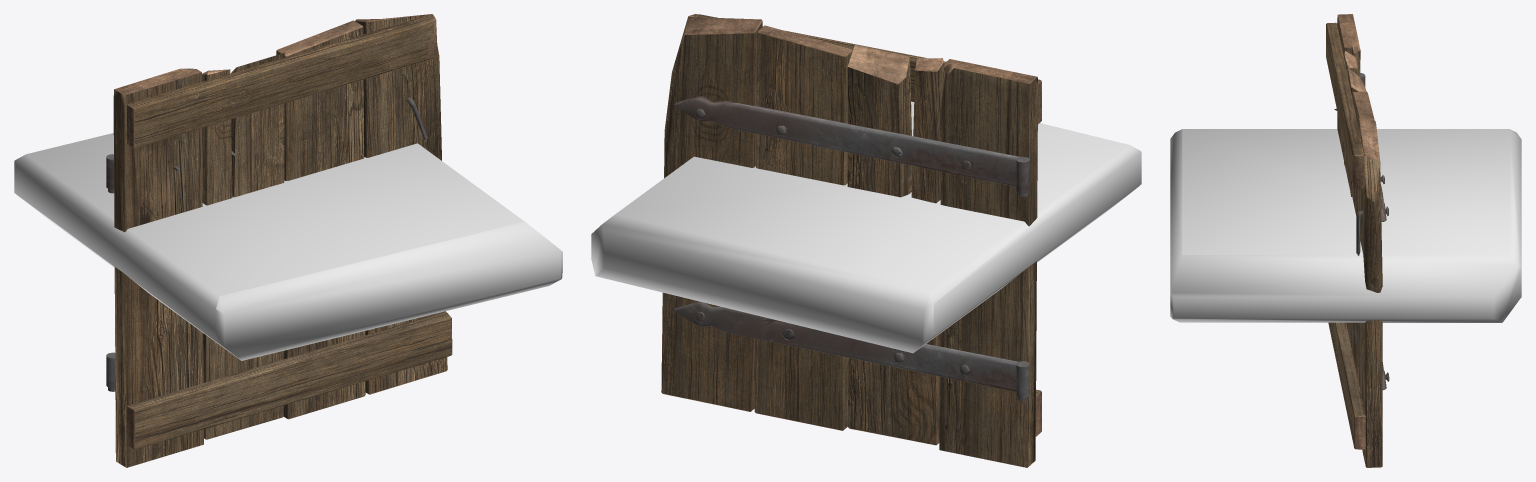
Rendered from SM_Wall_Window_A_P3_.fbx.
3 views of the same model, side by side, from view 1: azimuth 30°, elevation 25°; view 2: azimuth 150°, elevation 25°; view 3: azimuth 270°, elevation 25° (orthographic). The views are drawn at different scales.
Parts seen in each view (by area): view 1: SM_Wall_Window_A_P3_, SM_Wall_Window_A_P3__ConvexHulls; view 2: SM_Wall_Window_A_P3_, SM_Wall_Window_A_P3__ConvexHulls; view 3: SM_Wall_Window_A_P3__ConvexHulls, SM_Wall_Window_A_P3_.
Boxes of the visible parts, x1,y1,x2,y2 form: SM_Wall_Window_A_P3_: (106,14,452,467); SM_Wall_Window_A_P3__ConvexHulls: (14,133,562,360); SM_Wall_Window_A_P3_: (661,14,1041,467); SM_Wall_Window_A_P3__ConvexHulls: (591,101,1141,353); SM_Wall_Window_A_P3__ConvexHulls: (1170,129,1521,322); SM_Wall_Window_A_P3_: (1326,14,1389,467).
Bounding box in the file's own units: 0.8878 × 0.9237 × 0.9257.
